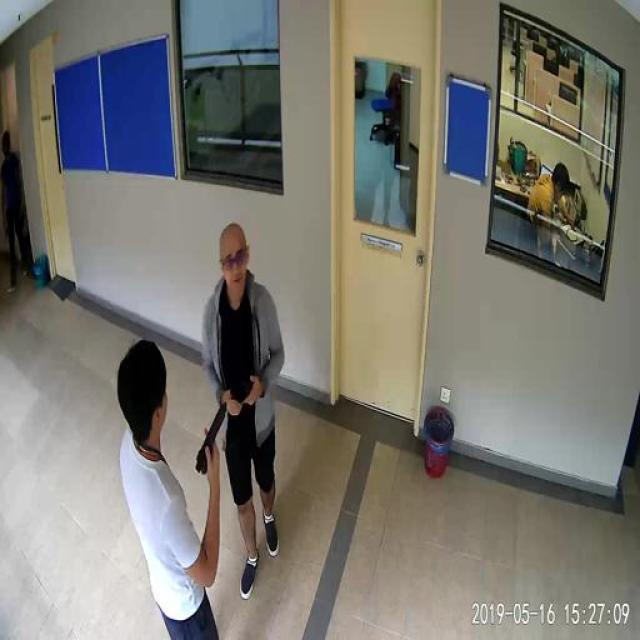Gun: (185, 396, 239, 482)
